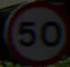Speed limit: (6, 2, 65, 59)
